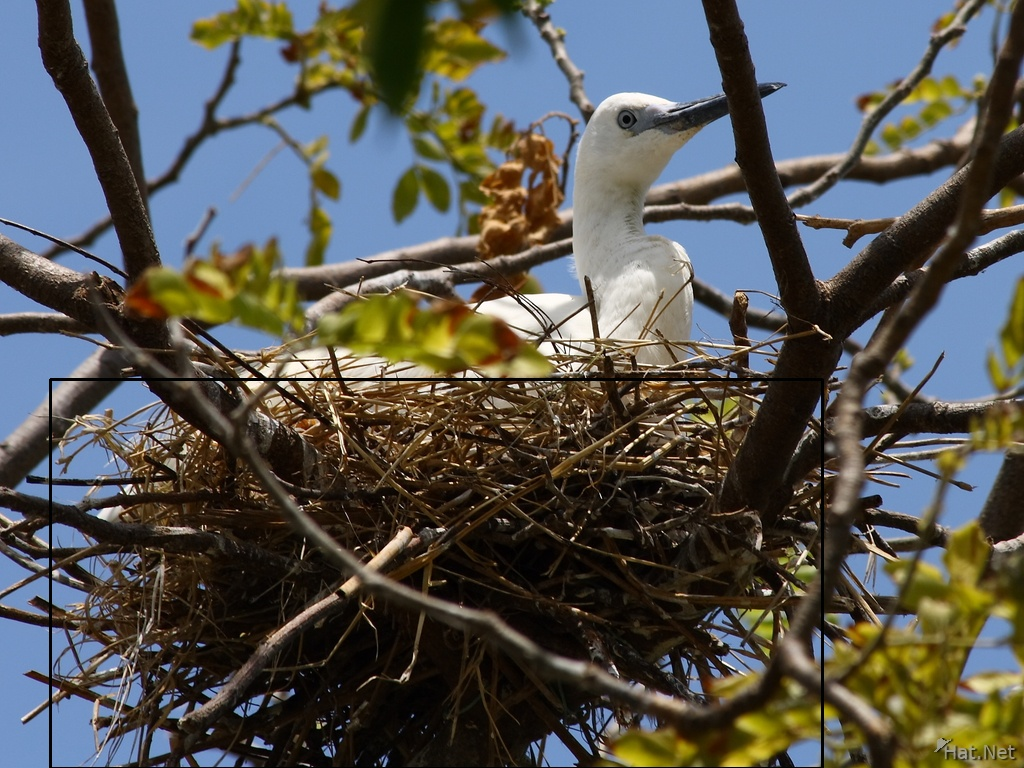bird-nest: (50, 379, 822, 768)
